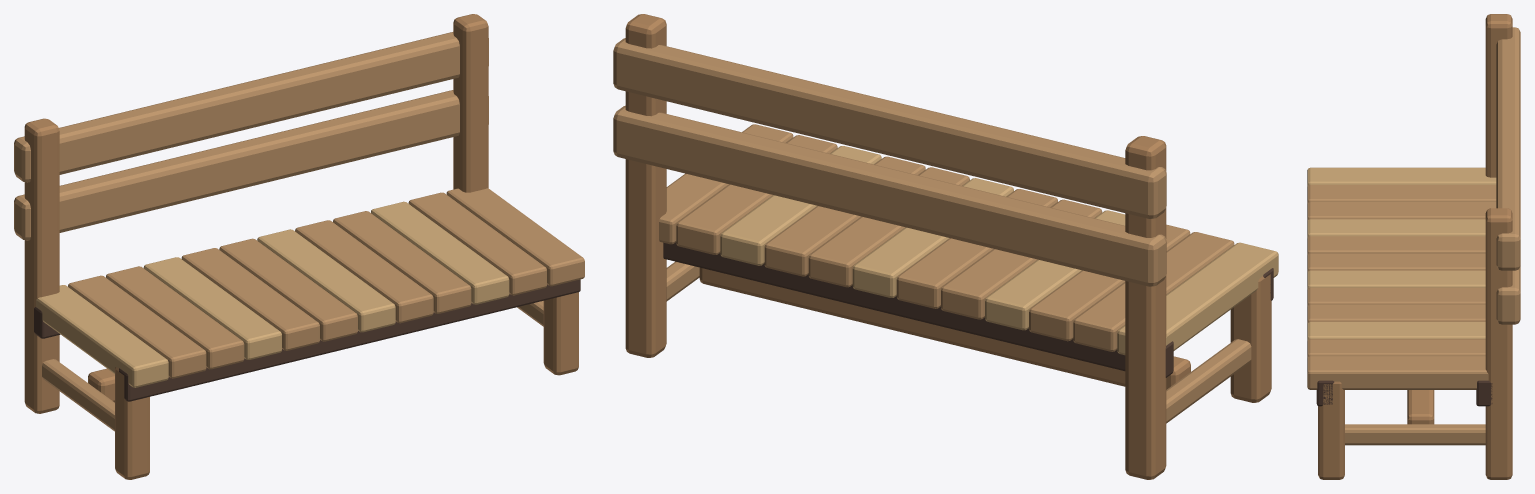
The model's file is bench_backed_1_8m.glb.
The picture shows the model from 3 angles, left to right: view 1: azimuth 30°, elevation 25°; view 2: azimuth 150°, elevation 25°; view 3: azimuth 270°, elevation 25°; orthographic projection. The views are drawn at different scales.
Parts seen in each view (by area): view 1: bench_backed_1_8m; view 2: bench_backed_1_8m; view 3: bench_backed_1_8m.
Part boxes in pixels (x1,y1,x2,y2): bench_backed_1_8m: (14,14,584,479); bench_backed_1_8m: (613,14,1278,479); bench_backed_1_8m: (1307,14,1520,479).
Size of the model in its own units: 1.85 by 1.08 by 0.79.
